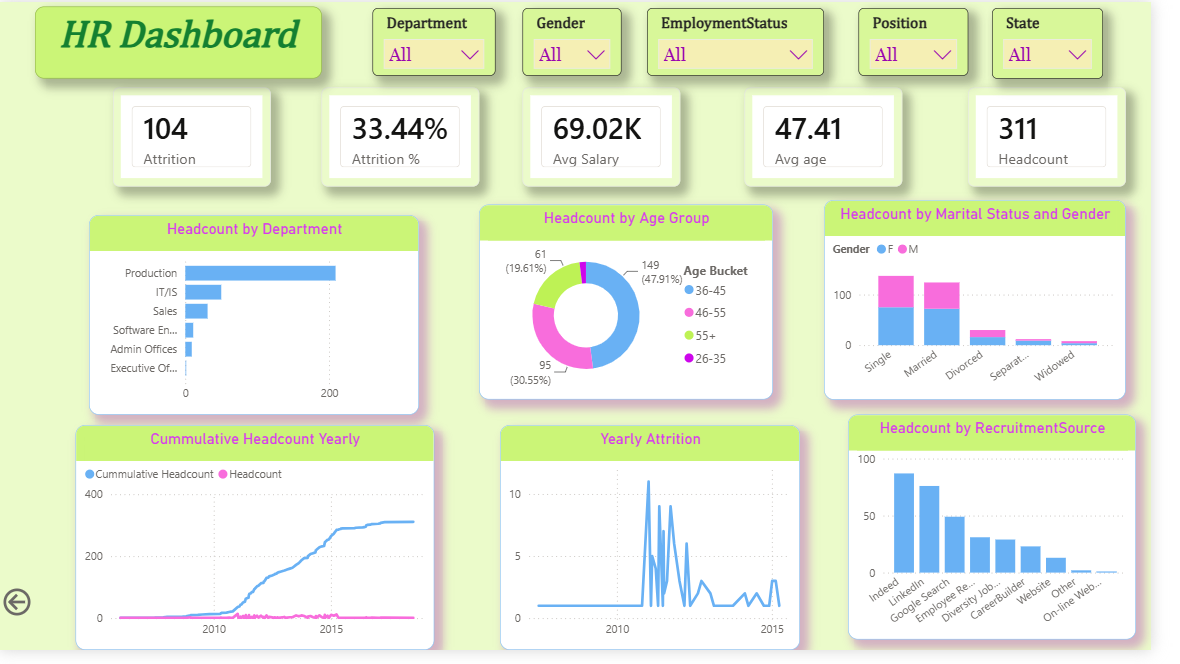

What the dashboard file says about the page in this screenshot:
{"tool":"powerbi","page":{"name":"Page 1","canvas":[1280,720],"ordinal":0},"visuals":[{"type":"cardVisual","fields":{"Data":["Measure.Headcount"]},"box":[1076.7,95,175,110],"z":0},{"type":"cardVisual","fields":{"Data":["Measure.Attrition"]},"box":[126.7,95,175,110],"z":1000},{"type":"cardVisual","fields":{"Data":["Measure.Attrition %"]},"box":[358.3,95,175,110],"z":2000},{"type":"cardVisual","fields":{"Data":["Measure.Avg Salary"]},"box":[581.7,95,175,110],"z":3000},{"type":"cardVisual","fields":{"Data":["Measure.Avg age"]},"box":[828.3,95,175,110],"z":4000},{"type":"clusteredBarChart","fields":{"Category":["HRDataset_v14.Department"],"Y":["Measure.Headcount"]},"box":[100,236.7,366.7,221.7],"z":5000},{"type":"donutChart","title":"Headcount by Age Group","fields":{"Category":["HRDataset_v14.Age Bucket"],"Y":["Measure.Headcount"]},"box":[533.3,225,326.7,216.7],"z":6000},{"type":"columnChart","title":"Headcount by Marital Status and Gender","fields":{"Y":["Measure.Headcount"],"Category":["HRDataset_v14.MaritalDesc"],"Series":["HRDataset_v14.Gender"]},"box":[916.7,220,335,221.7],"z":7000},{"type":"lineChart","title":"Cummulative Headcount Yearly","fields":{"Category":["HRDataset_v14.DateofHire"],"Y":["Measure.Cummulative Headcount","Measure.Headcount"]},"box":[85,470,398.3,250],"z":8000},{"type":"lineChart","title":"Yearly Attrition ","fields":{"Y":["Measure.Attrition"],"Category":["HRDataset_v14.DateofHire"]},"box":[556.7,470,333.3,250],"z":9000},{"type":"columnChart","fields":{"Category":["HRDataset_v14.RecruitmentSource"],"Y":["Measure.Headcount"]},"box":[943.3,458.3,320,250],"z":10000},{"type":"slicer","fields":{"Values":["HRDataset_v14.Department"]},"box":[415,6.7,136.7,75],"z":11000},{"type":"slicer","fields":{"Values":["HRDataset_v14.EmploymentStatus"]},"box":[720,6.7,196.7,75],"z":12000},{"type":"slicer","fields":{"Values":["HRDataset_v14.Gender"]},"box":[581.7,6.7,110,75],"z":13000},{"type":"slicer","fields":{"Values":["HRDataset_v14.State"]},"box":[1103.3,6.7,123.3,78.3],"z":14000},{"type":"slicer","fields":{"Values":["HRDataset_v14.Position"]},"box":[955,6.7,121.7,75],"z":15000},{"type":"actionButton","box":[0,646.7,100,40],"z":16000},{"type":"textbox","box":[40,5,318.3,80],"z":16001}]}

Visuals, with their boxes in screenshot pixels (x1, y1, x2, y2), scaled from the page's 1280x720 canvas onto the 1180x664 screenshot:
cardVisual - Measure.Headcount: bbox=(993, 88, 1154, 189)
cardVisual - Measure.Attrition: bbox=(117, 88, 278, 189)
cardVisual - Measure.Attrition %: bbox=(330, 88, 492, 189)
cardVisual - Measure.Avg Salary: bbox=(536, 88, 698, 189)
cardVisual - Measure.Avg age: bbox=(764, 88, 925, 189)
clusteredBarChart - HRDataset_v14.Department x Measure.Headcount: bbox=(92, 218, 430, 423)
"Headcount by Age Group" donutChart: bbox=(492, 208, 793, 407)
"Headcount by Marital Status and Gender" columnChart: bbox=(845, 203, 1154, 407)
"Cummulative Headcount Yearly" lineChart: bbox=(78, 433, 446, 663)
"Yearly Attrition " lineChart: bbox=(513, 433, 820, 663)
columnChart - HRDataset_v14.RecruitmentSource x Measure.Headcount: bbox=(870, 423, 1165, 653)
slicer - HRDataset_v14.Department: bbox=(383, 6, 509, 75)
slicer - HRDataset_v14.EmploymentStatus: bbox=(664, 6, 845, 75)
slicer - HRDataset_v14.Gender: bbox=(536, 6, 638, 75)
slicer - HRDataset_v14.State: bbox=(1017, 6, 1131, 78)
slicer - HRDataset_v14.Position: bbox=(880, 6, 993, 75)
actionButton: bbox=(0, 596, 92, 633)
textbox: bbox=(37, 5, 330, 78)
